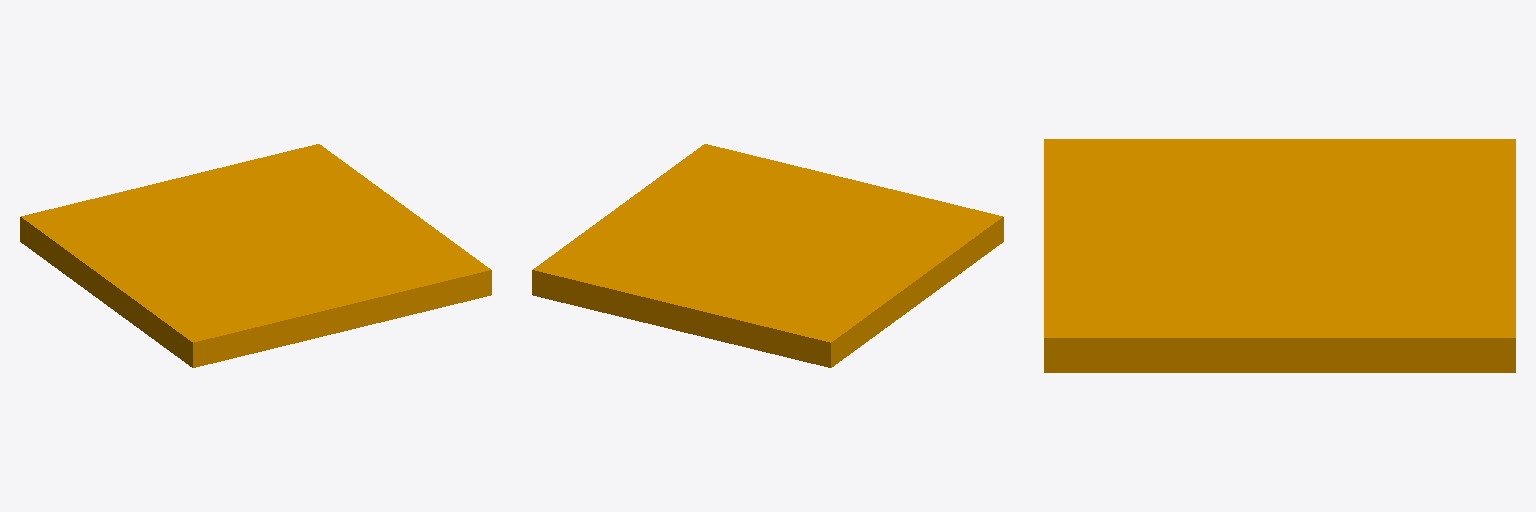
robot.urdf — platform:
<?xml version="1.0" encoding="utf-8"?>
  <!-- This models the wooden block and aluminium sheet over which the franka is
        mounted. We do not consider this for collisions. -->

<robot name="platform">
  <!-- Visual box to show the offset that connect franka to ground (table) -->
  <link name="platform">
     <visual>
        <origin xyz="-0.05 0 0" />
        <geometry>
           <box size="0.3 0.3 0.0245"/>
        </geometry>
     </visual>
  </link>
</robot>

--- Render facts (derived) ---
The picture shows the robot from 3 angles, left to right: view 1: azimuth 30°, elevation 25°; view 2: azimuth 150°, elevation 25°; view 3: azimuth 270°, elevation 25°; orthographic projection.
Model platform with 1 links and 0 joints (none), rooted at platform, posed all joints at 0.
Visible links, largest first — view 1: platform; view 2: platform; view 3: platform.
Boxes of the visible links, bbox=[...] form: platform: bbox=[20, 144, 491, 367]; platform: bbox=[532, 144, 1003, 367]; platform: bbox=[1044, 139, 1515, 372].
Bounding box of the posed robot: 0.3 × 0.3 × 0.0245 m (x, y, z).
Geometry: primitives only (box / cylinder / sphere), no mesh files.